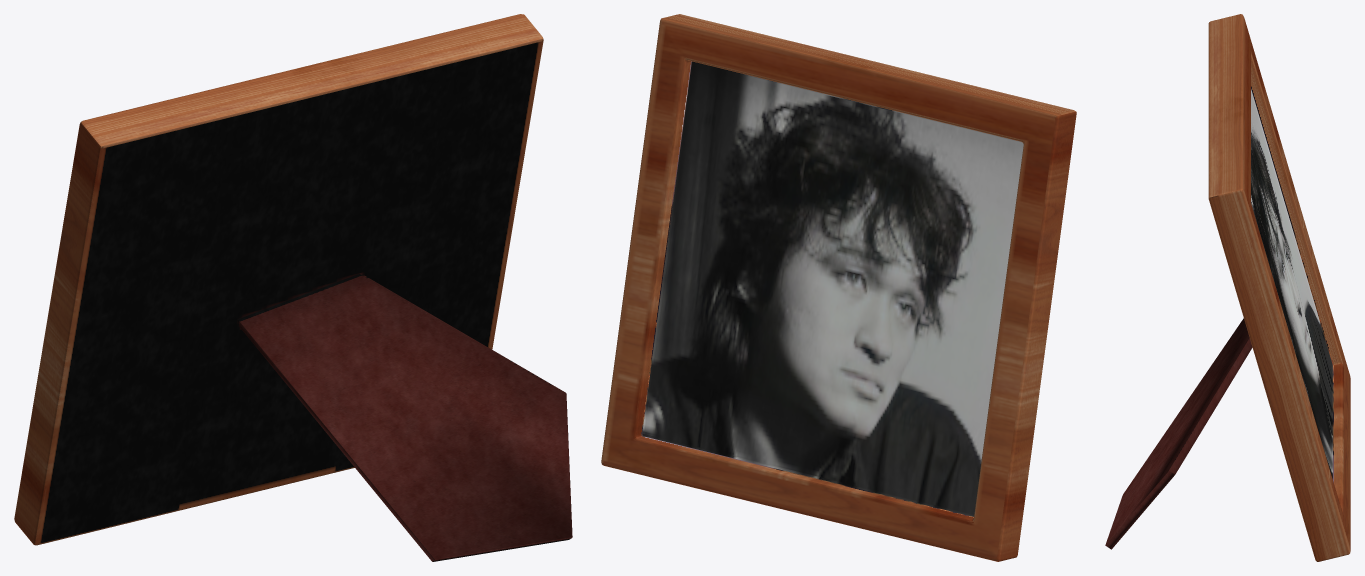
File: Tsoi.fbx
3 renders of one model, left to right at view 1: azimuth 30°, elevation 25°; view 2: azimuth 150°, elevation 25°; view 3: azimuth 270°, elevation 25°, orthographic. The views are drawn at different scales.
Visible parts, largest first — view 1: pCube1; view 2: pCube1; view 3: pCube1.
Part boxes in pixels (box(x1,y1,x2,y2)): pCube1: box(14, 14, 572, 561); pCube1: box(601, 14, 1076, 561); pCube1: box(1105, 14, 1350, 561).
Size of the model in its own units: 38.17 by 37.67 by 22.38.
Materials: 1 (1 with a texture image).
